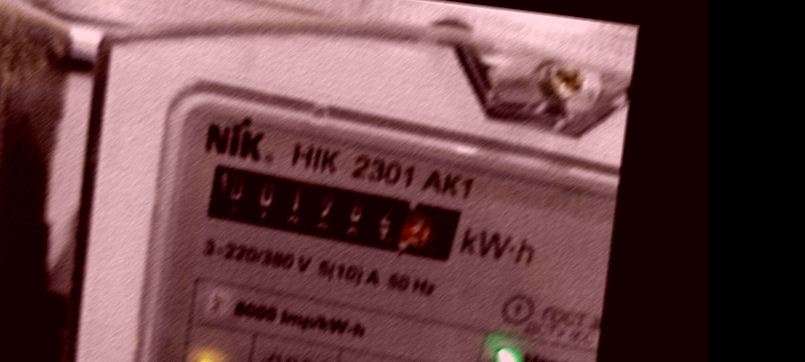0: (257, 179, 277, 209), (228, 172, 247, 203)
1: (289, 183, 304, 213)
2: (378, 197, 399, 228)
8: (348, 194, 367, 224)
9: (408, 207, 431, 237), (317, 189, 336, 220)
screen: (188, 148, 479, 278)
